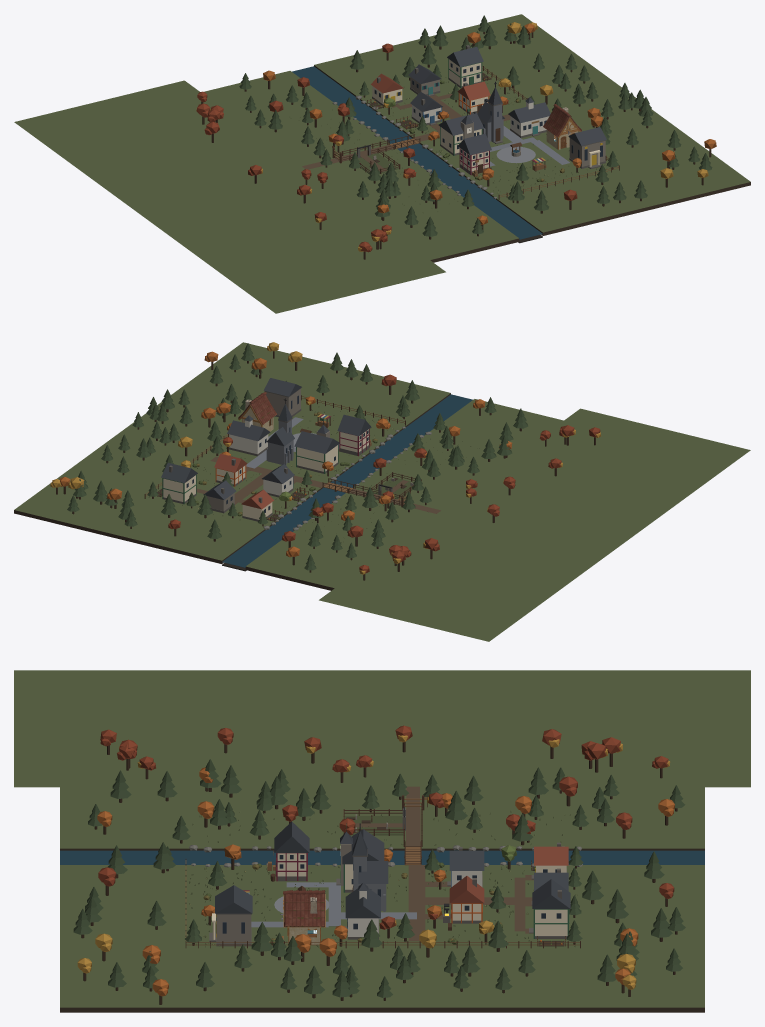
File: town.glb
The picture shows the model from 3 angles, top to bottom: view 1: azimuth 30°, elevation 25°; view 2: azimuth 150°, elevation 25°; view 3: azimuth 270°, elevation 25°; orthographic projection. The views are drawn at different scales.
Visible parts, largest first — view 1: Ground, GroundWestSkirt, OuterTrees, Biblioteca, CasaHugo, Prefeitura, Escola, Taverna, Igreja, Casa2, Casa1, CasaSarah (+4 smaller); view 2: Ground, GroundWestSkirt, OuterTrees, Prefeitura, Escola, CasaHugo, Igreja, Taverna, Biblioteca, Casa2, Casa1, CasaSophia (+3 smaller); view 3: Ground, GroundWestSkirt, OuterTrees, Biblioteca, CasaHugo, Taverna, Casa2, Roof_RoundTiles_4x4, Escola, Igreja, Prefeitura, Fence (+7 smaller).
Part boxes in pixels (x1=…): Ground: x1=204, y1=14, x2=750, y2=262; GroundWestSkirt: x1=14, y1=80, x2=445, y2=313; OuterTrees: x1=239, y1=15, x2=716, y2=239; Biblioteca: x1=568, y1=127, x2=606, y2=168; CasaHugo: x1=447, y1=45, x2=483, y2=88; Prefeitura: x1=438, y1=109, x2=483, y2=155; Escola: x1=508, y1=97, x2=550, y2=138; Taverna: x1=458, y1=133, x2=491, y2=175; Igreja: x1=477, y1=81, x2=504, y2=143; Casa2: x1=457, y1=81, x2=490, y2=114; Casa1: x1=410, y1=92, x2=442, y2=125; CasaSarah: x1=408, y1=64, x2=441, y2=96; Ground: x1=14, y1=342, x2=563, y2=590; GroundWestSkirt: x1=319, y1=408, x2=750, y2=641; OuterTrees: x1=50, y1=342, x2=528, y2=572; Prefeitura: x1=294, y1=418, x2=339, y2=473; Escola: x1=227, y1=415, x2=270, y2=456; CasaHugo: x1=161, y1=462, x2=197, y2=504; Igreja: x1=266, y1=398, x2=294, y2=465; Taverna: x1=337, y1=414, x2=371, y2=456; Biblioteca: x1=263, y1=378, x2=301, y2=417; Casa2: x1=214, y1=453, x2=247, y2=486; Casa1: x1=262, y1=464, x2=294, y2=497; CasaSophia: x1=241, y1=489, x2=273, y2=521; Ground: x1=60, y1=786, x2=704, y2=1012; GroundWestSkirt: x1=14, y1=670, x2=750, y2=787; OuterTrees: x1=73, y1=759, x2=685, y2=1004; Biblioteca: x1=209, y1=885, x2=252, y2=946; CasaHugo: x1=529, y1=879, x2=570, y2=938; Taverna: x1=270, y1=821, x2=309, y2=881; Casa2: x1=443, y1=876, x2=484, y2=923; Roof_RoundTiles_4x4: x1=283, y1=890, x2=325, y2=927; Escola: x1=345, y1=882, x2=380, y2=939; Igreja: x1=352, y1=823, x2=388, y2=911; Prefeitura: x1=336, y1=823, x2=384, y2=892; Fence: x1=185, y1=859, x2=580, y2=948.
Size of what is drawn, in the model's own units: 104 by 12.8 by 96.
86 materials, 39 textured.
